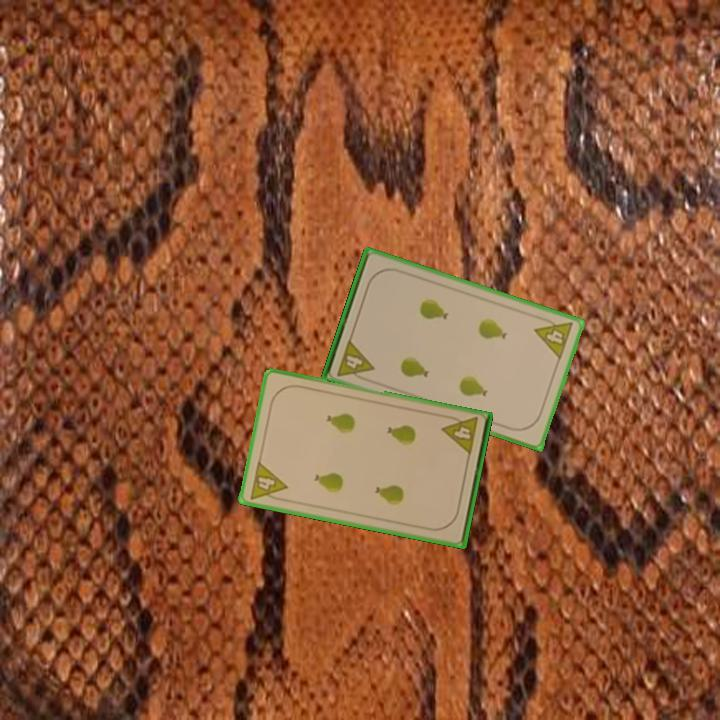4p: (531, 312, 576, 362), (334, 335, 377, 384), (246, 458, 290, 505), (439, 412, 481, 458)
